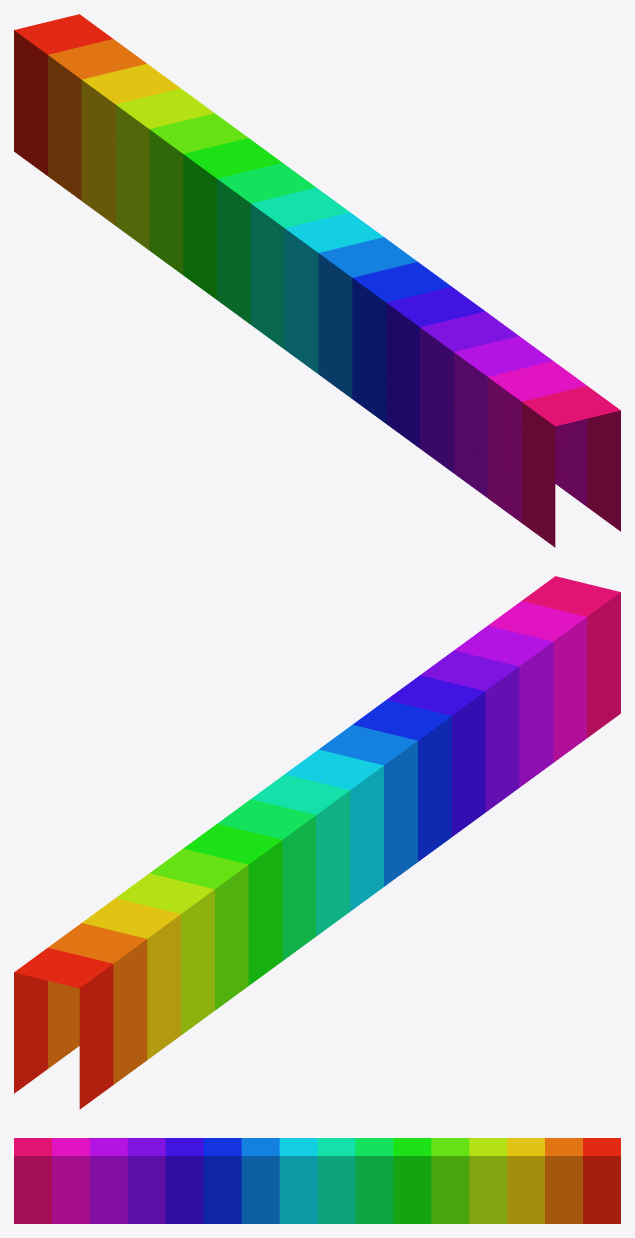
File: EndPLatform.fbx
3 views of the same model, one above another, from view 1: azimuth 30°, elevation 25°; view 2: azimuth 150°, elevation 25°; view 3: azimuth 270°, elevation 25° (orthographic). The views are drawn at different scales.
Parts seen in each view (by area): view 1: EndPLatform; view 2: EndPLatform; view 3: EndPLatform.
Part boxes in pixels (x1=…): EndPLatform: x1=14, y1=14, x2=620, y2=547; EndPLatform: x1=14, y1=576, x2=620, y2=1109; EndPLatform: x1=14, y1=1138, x2=620, y2=1223.
Size of the model in its own units: 557 by 985 by 7965.
